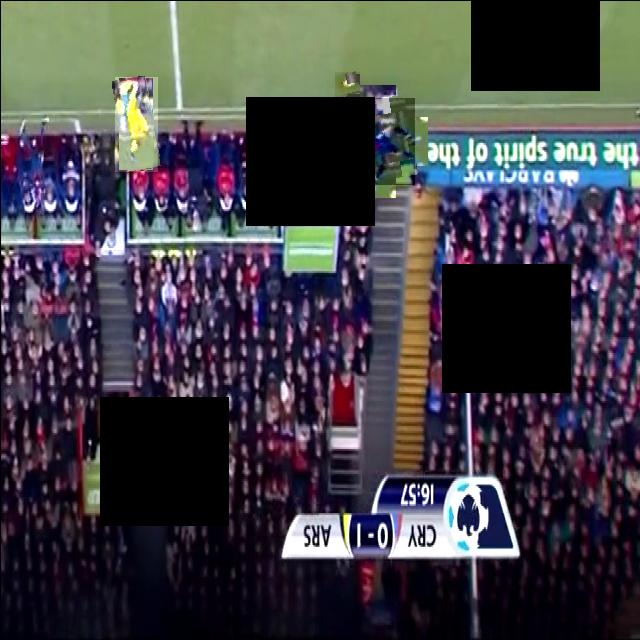ball: (334, 71, 359, 96)
soccer-player: (326, 97, 414, 184), (114, 76, 157, 171)
